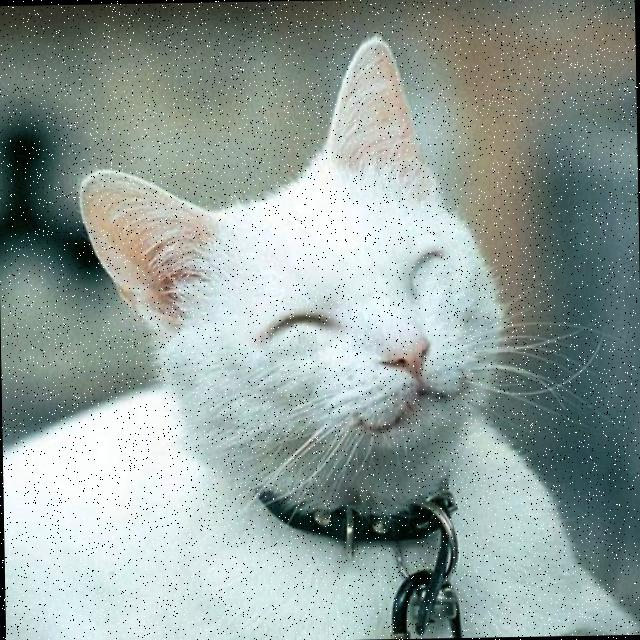Happy: (193, 222, 498, 482)
